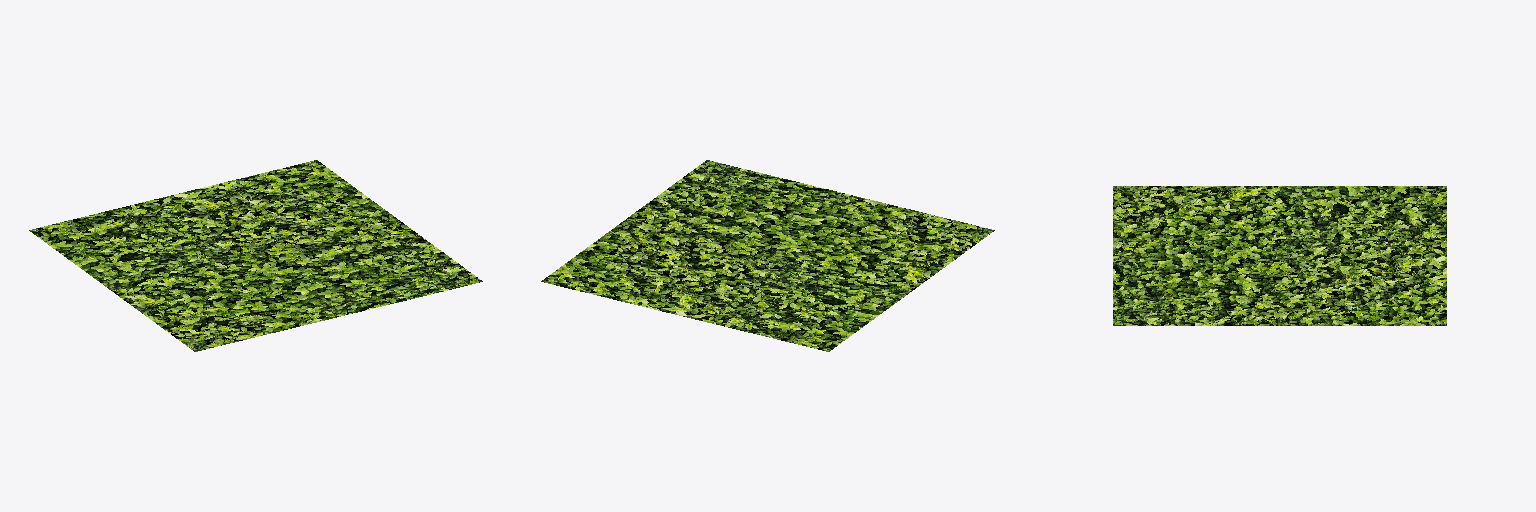
The picture shows the model from 3 angles: view 1: azimuth 30°, elevation 25°; view 2: azimuth 150°, elevation 25°; view 3: azimuth 270°, elevation 25°; orthographic projection.
Parts seen in each view (by area): view 1: Plane; view 2: Plane; view 3: Plane.
Boxes of the visible parts, box(x1,y1,x2,y2) form: Plane: box(29, 160, 482, 351); Plane: box(541, 160, 994, 351); Plane: box(1113, 186, 1446, 325).
Size of the model in its own units: 15.93 by 0 by 15.93.
1 materials, 1 textured.